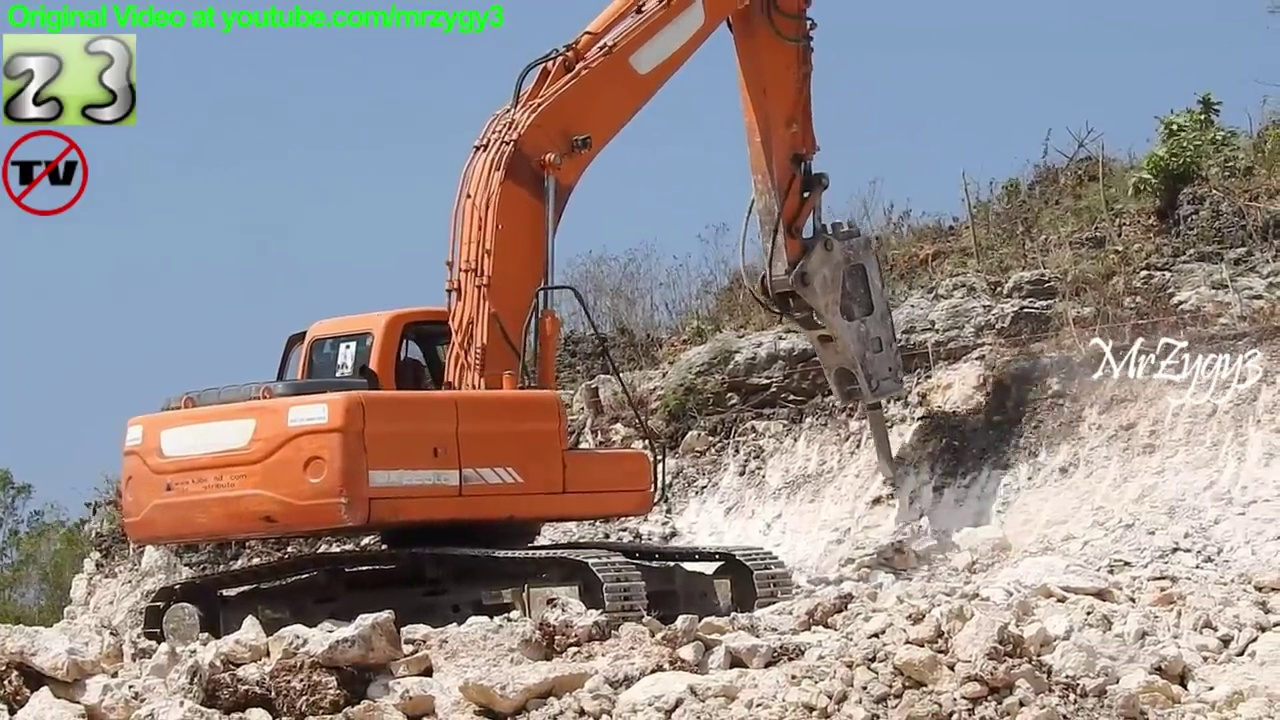excavator: (110, 1, 919, 658)
